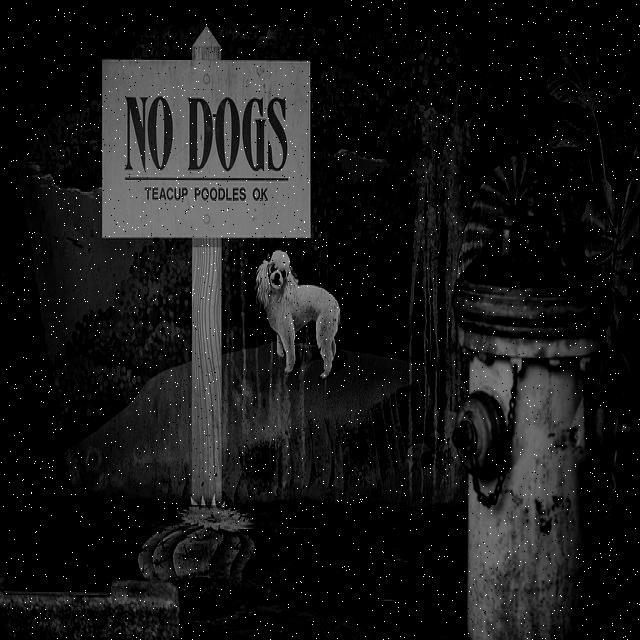fire_hydrant: (449, 180, 636, 630)
